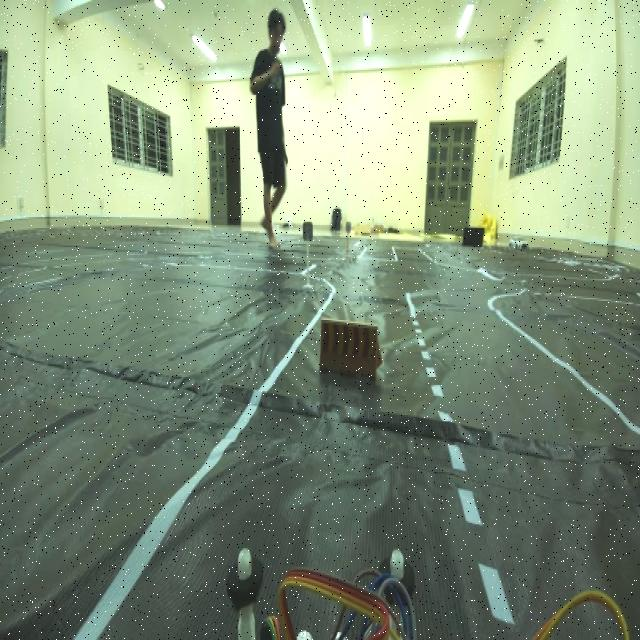roadblock: (316, 309, 385, 393)
